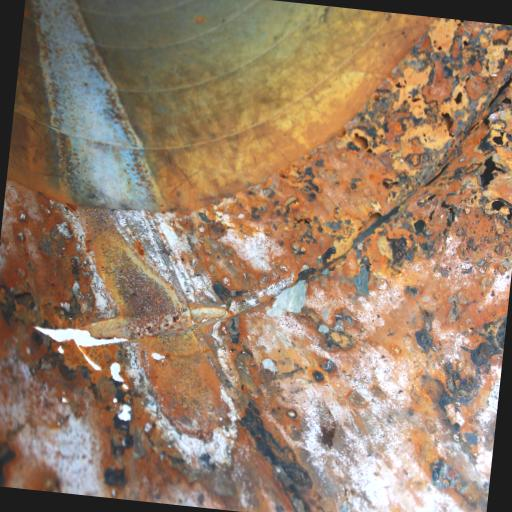segmentation: (0, 182, 122, 328), (419, 103, 512, 274), (383, 202, 444, 243)
